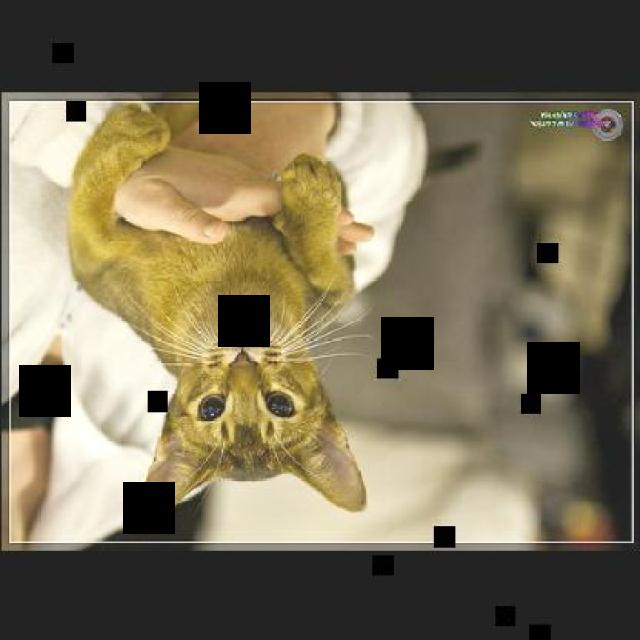unauthorized: (67, 102, 376, 523)
